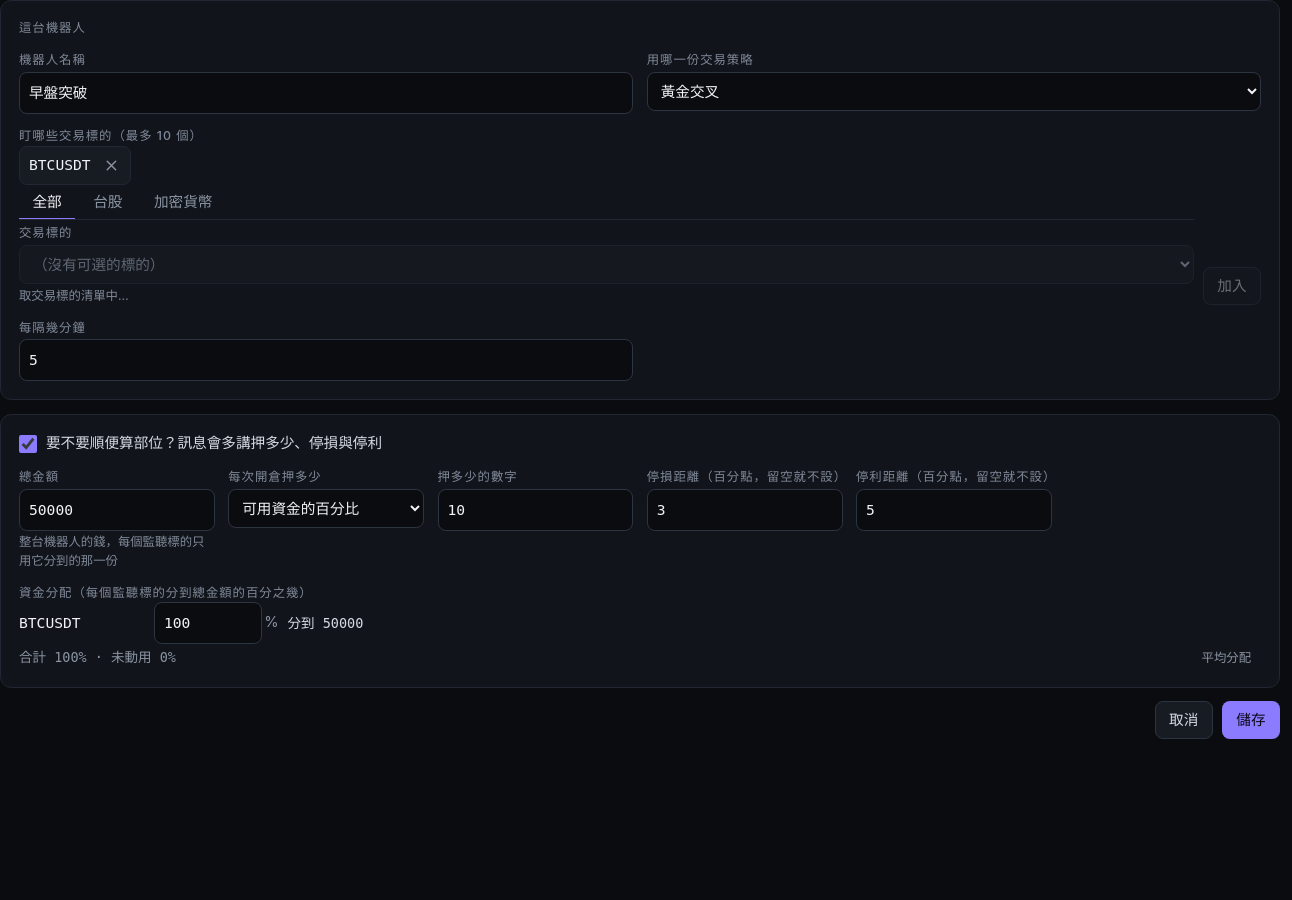
it: StrategyBotForm 的建議部位 › 填錯就送不出去，而那句話與回測那一列一字不差
This screenshot has width=1292, height=900.
Replace the text in the number field with test id "bot-position-sizing-value-input" with "150" at (535, 510), box [438,489,633,531]
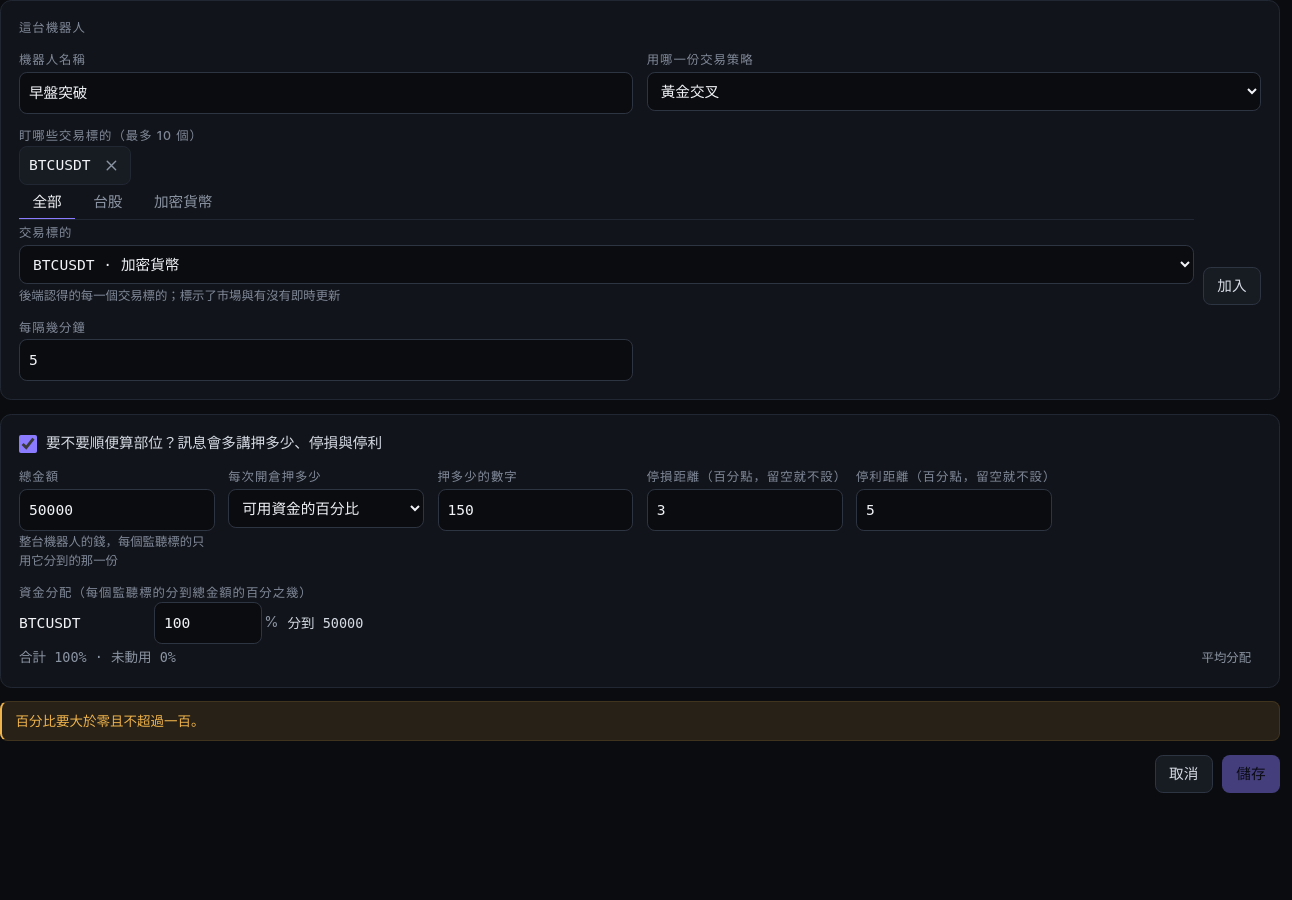
Now the message with test id "bot-form-rejection" shows "百分比要大於零且不超過一百", box [16,713,204,729]
Now the button with test id "bot-form-save" is disabled, box [1222,755,1280,793]
